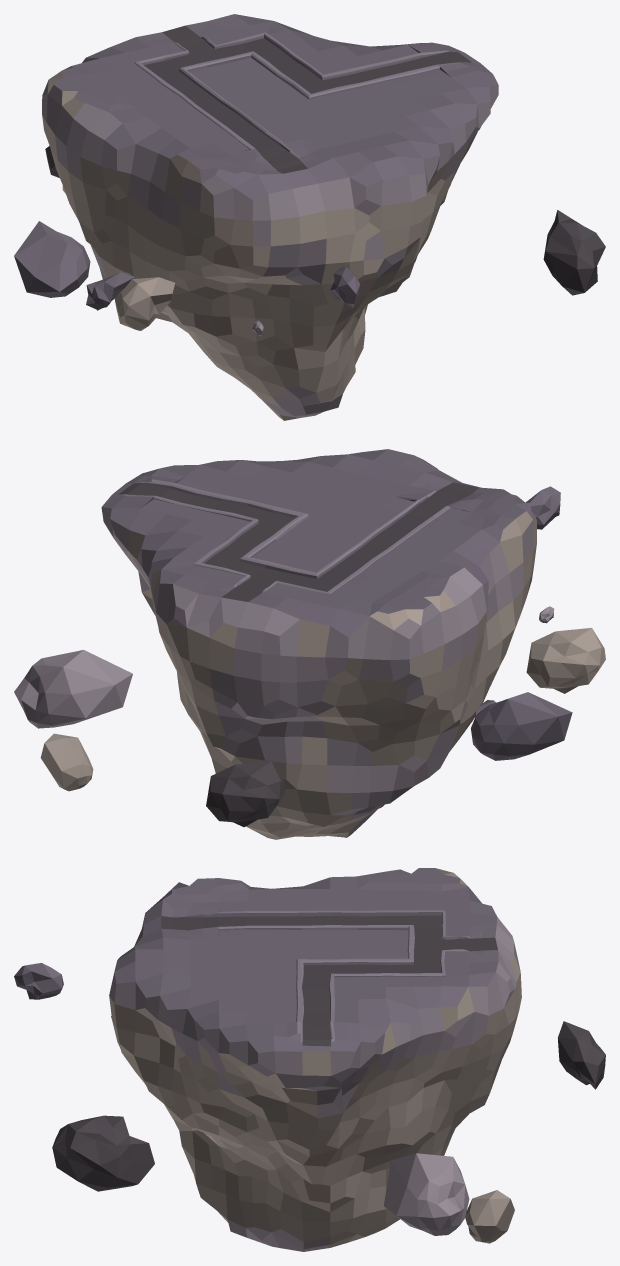
Rendered from island_big_2.fbx.
3 views of the same model, one above another, from view 1: azimuth 30°, elevation 25°; view 2: azimuth 150°, elevation 25°; view 3: azimuth 270°, elevation 25° (orthographic). The views are drawn at different scales.
Visible parts, largest first — view 1: Icosphere, Icosphere.001, Icosphere.008, Icosphere.003, Icosphere.002, Icosphere.004; view 2: Icosphere, Icosphere.006, Icosphere.001, Icosphere.007, Icosphere.003, Icosphere.009, Icosphere.004; view 3: Icosphere, Icosphere.008, Icosphere.006, Icosphere.007, Icosphere.009, Icosphere.004.
Boxes of the visible parts, box(x1,y1,x2,y2) form: Icosphere: box(42, 14, 498, 420); Icosphere.001: box(14, 221, 90, 297); Icosphere.008: box(543, 210, 605, 295); Icosphere.003: box(114, 277, 175, 330); Icosphere.002: box(86, 272, 134, 310); Icosphere.004: box(330, 267, 360, 308); Icosphere: box(101, 449, 536, 839); Icosphere.006: box(14, 650, 132, 728); Icosphere.001: box(471, 692, 572, 760); Icosphere.007: box(206, 761, 285, 827); Icosphere.003: box(526, 628, 605, 693); Icosphere.009: box(40, 733, 93, 791); Icosphere.004: box(525, 486, 560, 529); Icosphere: box(109, 868, 521, 1251); Icosphere.008: box(52, 1115, 154, 1191); Icosphere.006: box(383, 1153, 469, 1235); Icosphere.007: box(558, 1021, 605, 1089); Icosphere.009: box(465, 1190, 514, 1243); Icosphere.004: box(14, 963, 63, 999).
Bounding box in the file's own units: 224 × 141 × 250.
